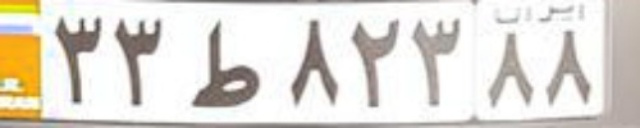2: (348, 19, 396, 107)
3: (407, 18, 470, 106), (53, 15, 110, 105), (112, 18, 168, 105)
8: (289, 19, 338, 105), (483, 30, 534, 106), (544, 29, 594, 104)
taa: (188, 23, 259, 107)
